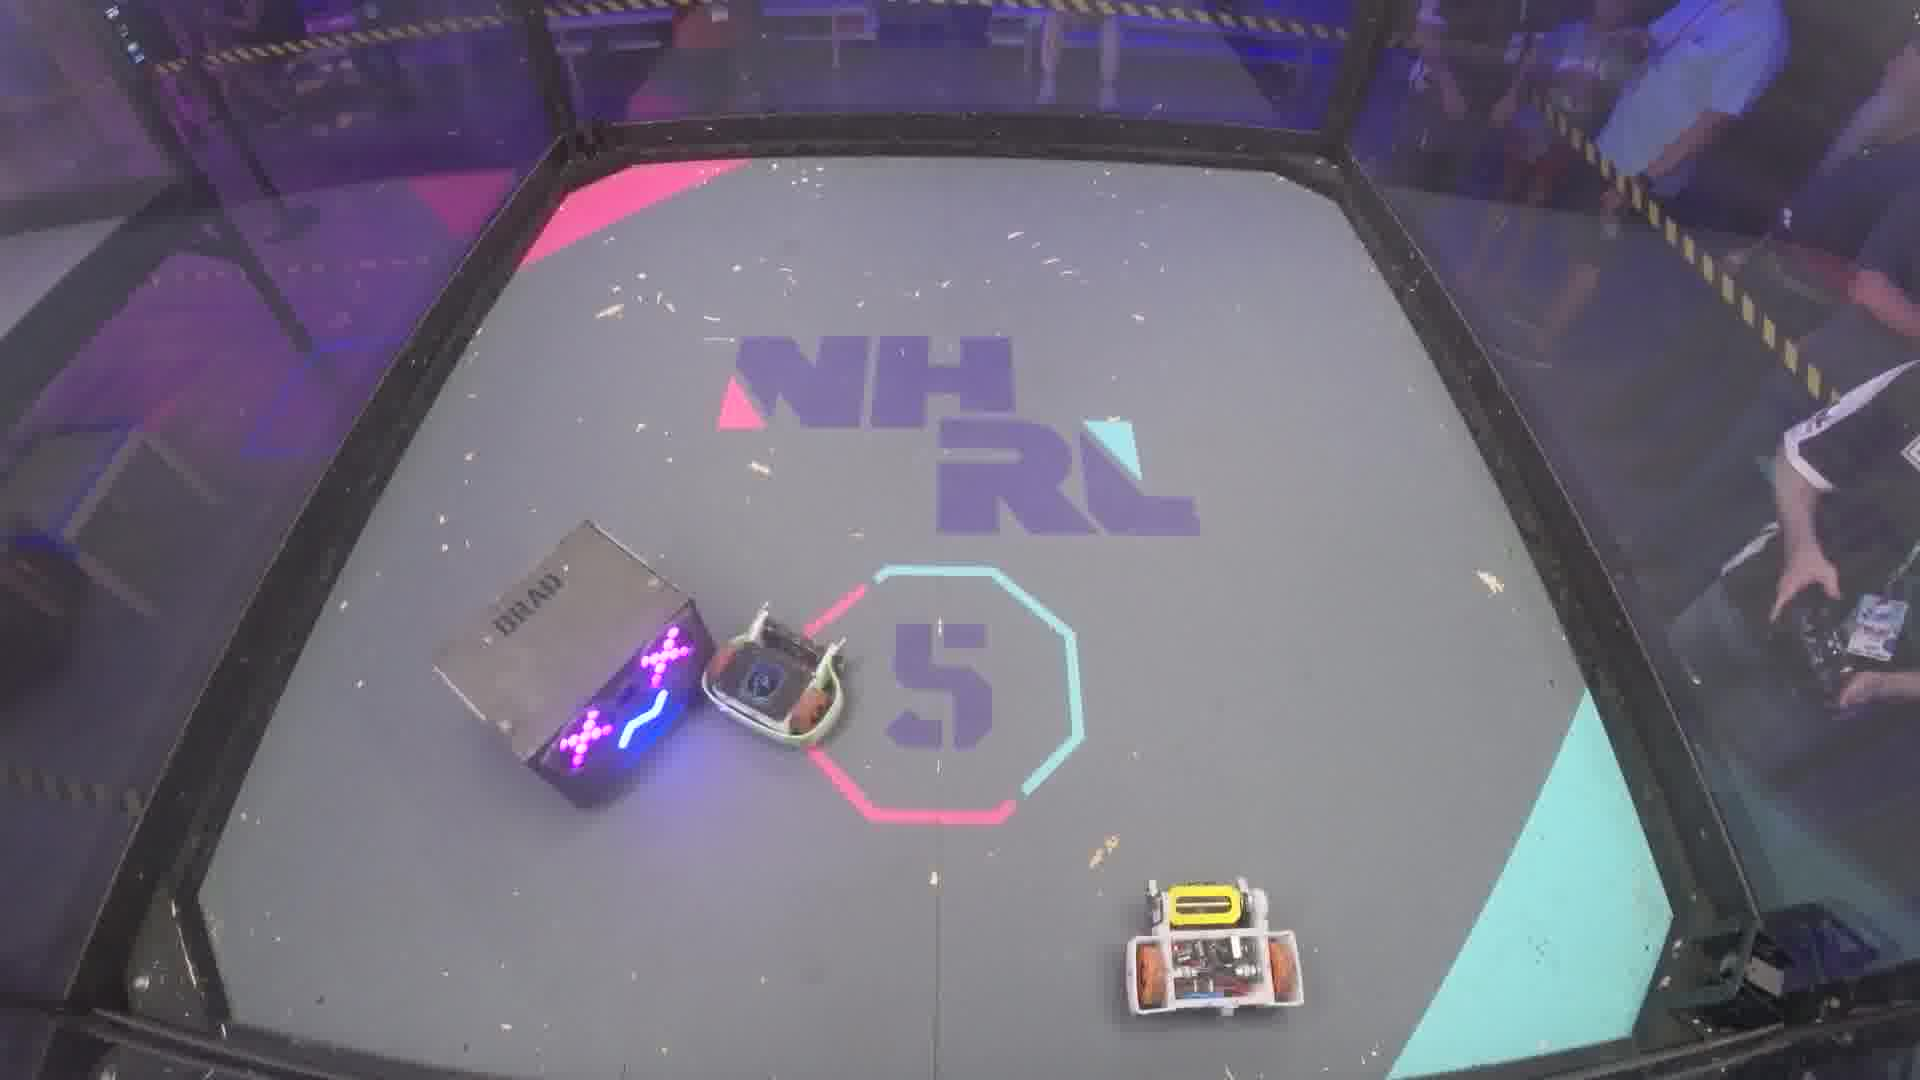combatbot: (1122, 878, 1305, 1015), (703, 600, 857, 752)
housebot: (433, 514, 715, 812)
